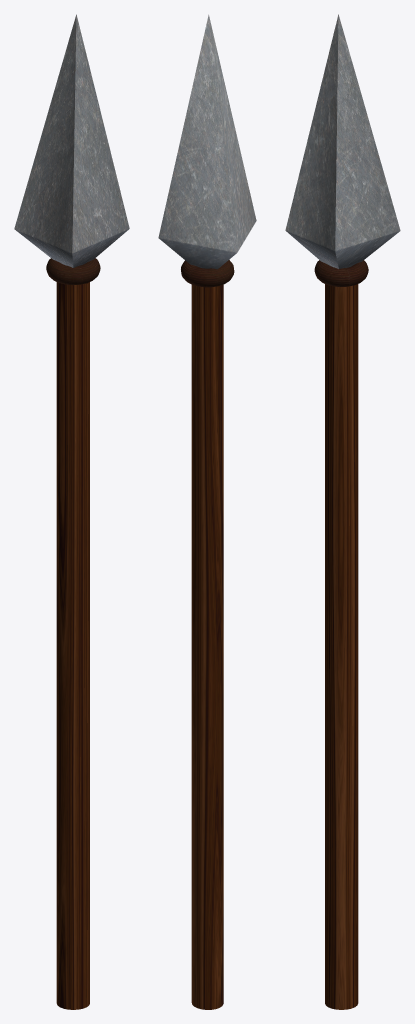
File: spear.fbx
3 renders of one model, left to right at view 1: azimuth 90°, elevation 25°; view 2: azimuth 210°, elevation 25°; view 3: azimuth 270°, elevation 25°, orthographic.
Visible parts, largest first — view 1: pCylinder1, pCube1, pTorus1; view 2: pCylinder1, pCube1, pTorus1; view 3: pCylinder1, pCube1, pTorus1.
Boxes of the visible parts, left/top/right/bottom form: pCylinder1: left=56, top=282, right=89, bottom=1009; pCube1: left=14, top=14, right=129, bottom=267; pTorus1: left=46, top=258, right=100, bottom=285; pCylinder1: left=191, top=284, right=223, bottom=1009; pCube1: left=158, top=14, right=256, bottom=269; pTorus1: left=181, top=260, right=234, bottom=287; pCylinder1: left=325, top=284, right=358, bottom=1009; pCube1: left=285, top=14, right=400, bottom=268; pTorus1: left=314, top=260, right=368, bottom=286.
Size of the model in its own units: 4.24 by 42.3 by 4.47.
